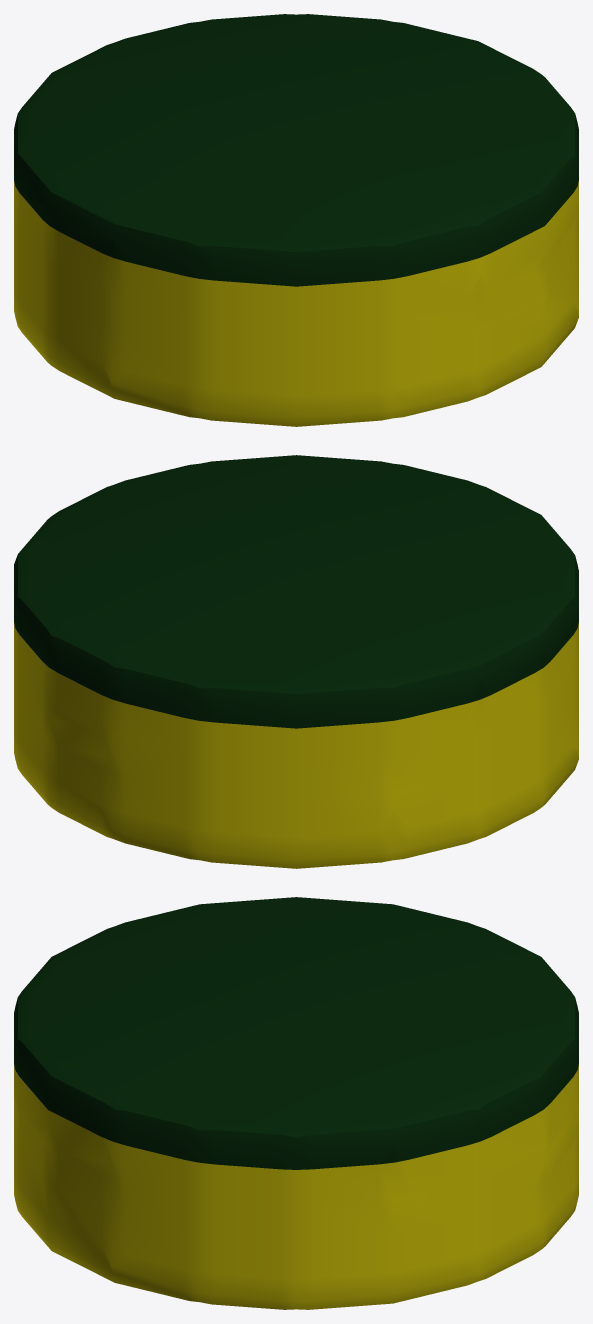
The model's file is Sponge.fbx.
3 views of the same model, one above another, from view 1: azimuth 30°, elevation 25°; view 2: azimuth 150°, elevation 25°; view 3: azimuth 270°, elevation 25° (orthographic).
Visible parts, largest first — view 1: Cylinder001; view 2: Cylinder001; view 3: Cylinder001.
Boxes of the visible parts, <box> form: Cylinder001: <box>14,14,578,426</box>; Cylinder001: <box>14,455,578,868</box>; Cylinder001: <box>14,897,578,1309</box>.
Bounding box in the file's own units: 19.95 × 7 × 19.7.
